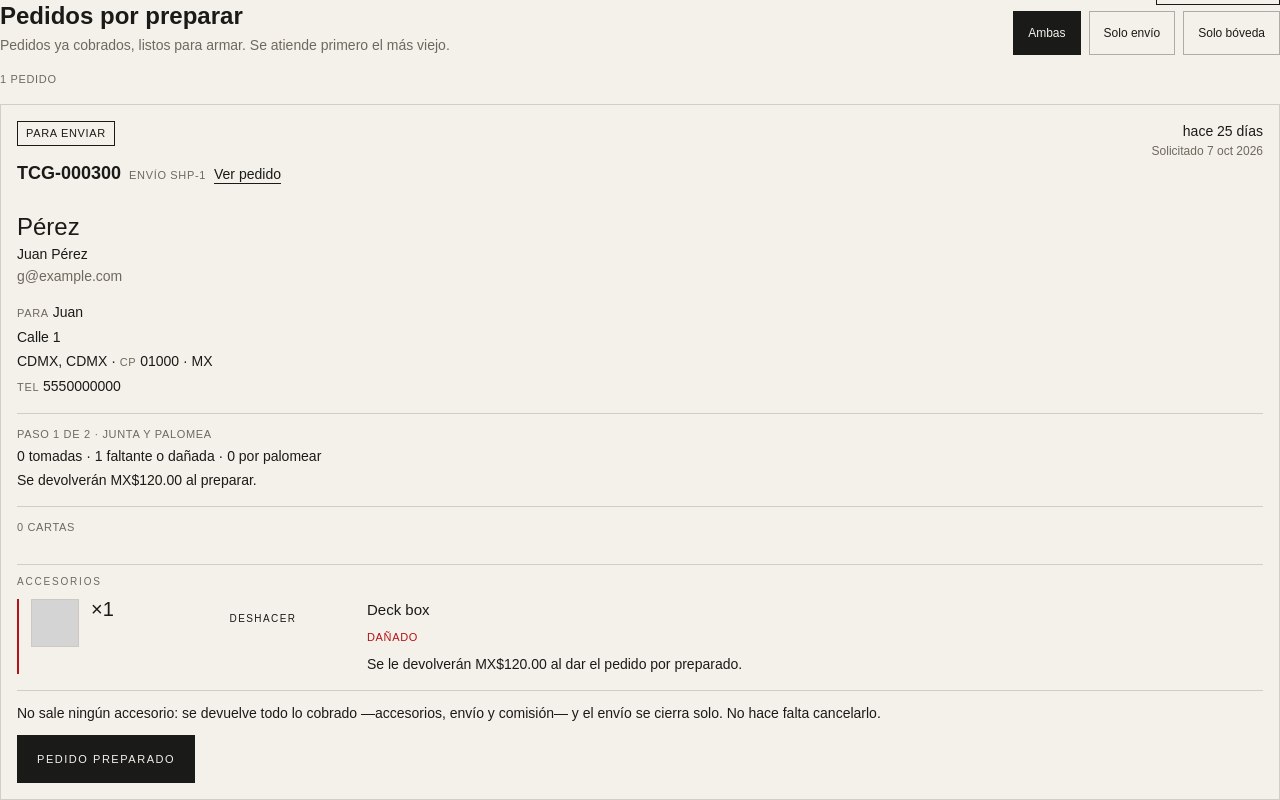
QA §AC.gates · el diálogo de preparado habla del tipo de renglón que falta › pedido solo de accesorios y no sale nada: ni el pie ni el diálogo dicen «carta»
(page scrolled)
What coordinates should you click on to do the following:
click the button "Pedido preparado"
I would click on:
 (106, 759)
Its box is [17, 734, 195, 783].
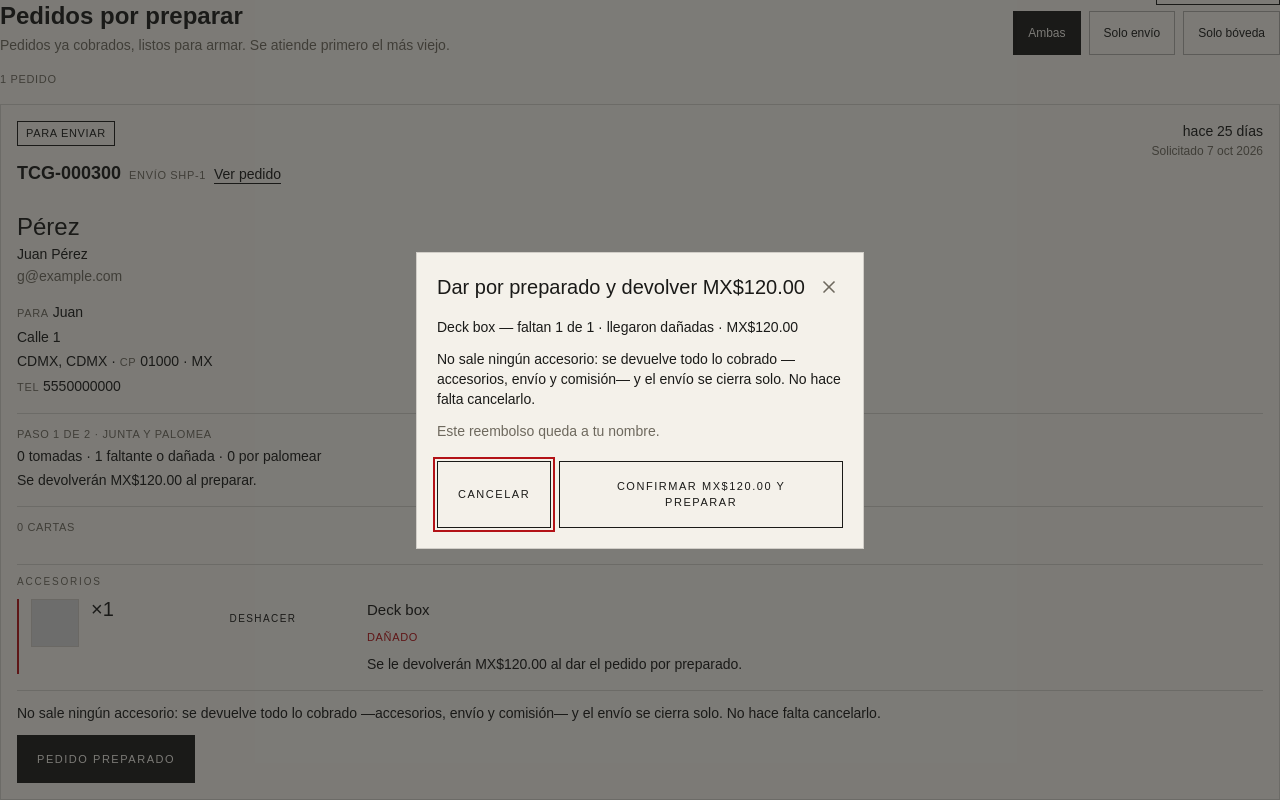
Check: the element with test id "ship-footer-shp-1" does not show "carta"
Check: the dialog shows "No sale ningún accesorio: se devuelve todo lo cobrado —accesorios, envío y comisión—", box [437, 350, 841, 406]
